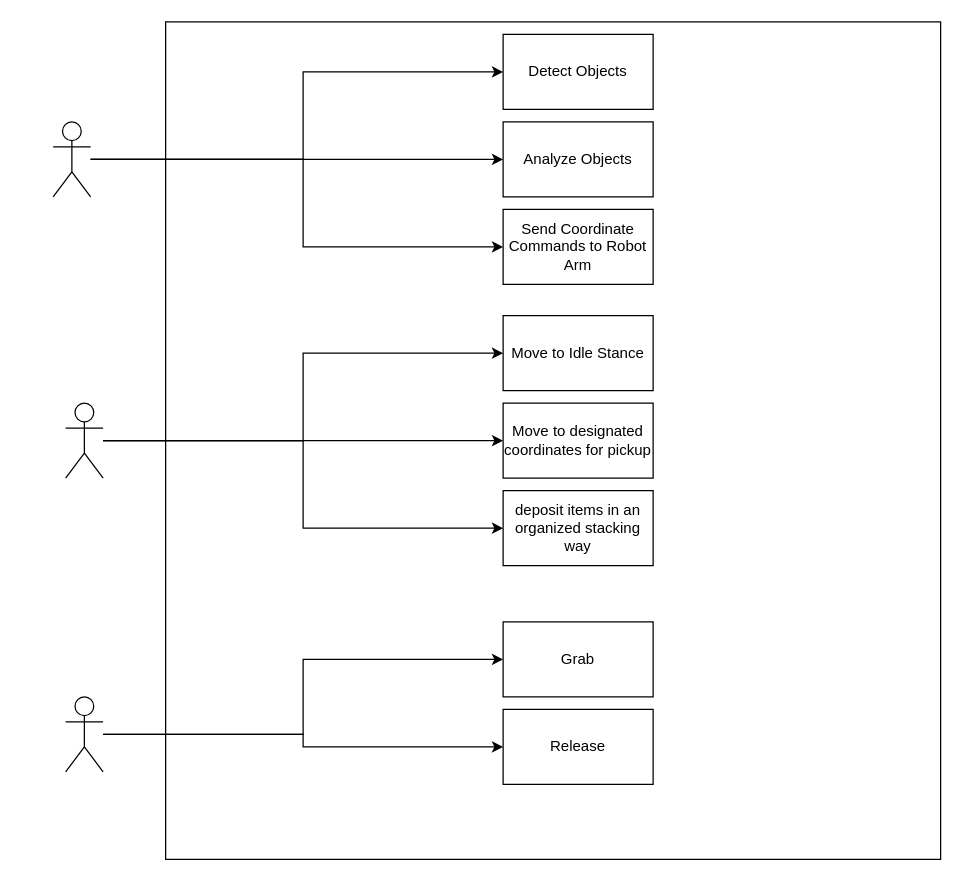
The diagram is 963 pixels wide and 881 high, and some of its shapes have lost their labels. The box of each missing label's shape, as (x1, y1, x2, y2) in pixels:
Depth_Camera: (52, 121, 91, 197)
Robot_Arm: (64, 402, 103, 478)
Robot_Grabber: (64, 696, 103, 772)
